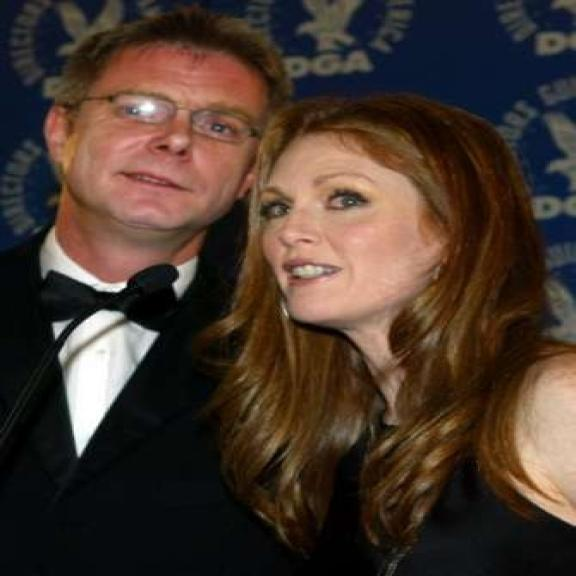face: (44, 48, 275, 240), (259, 134, 472, 330)
